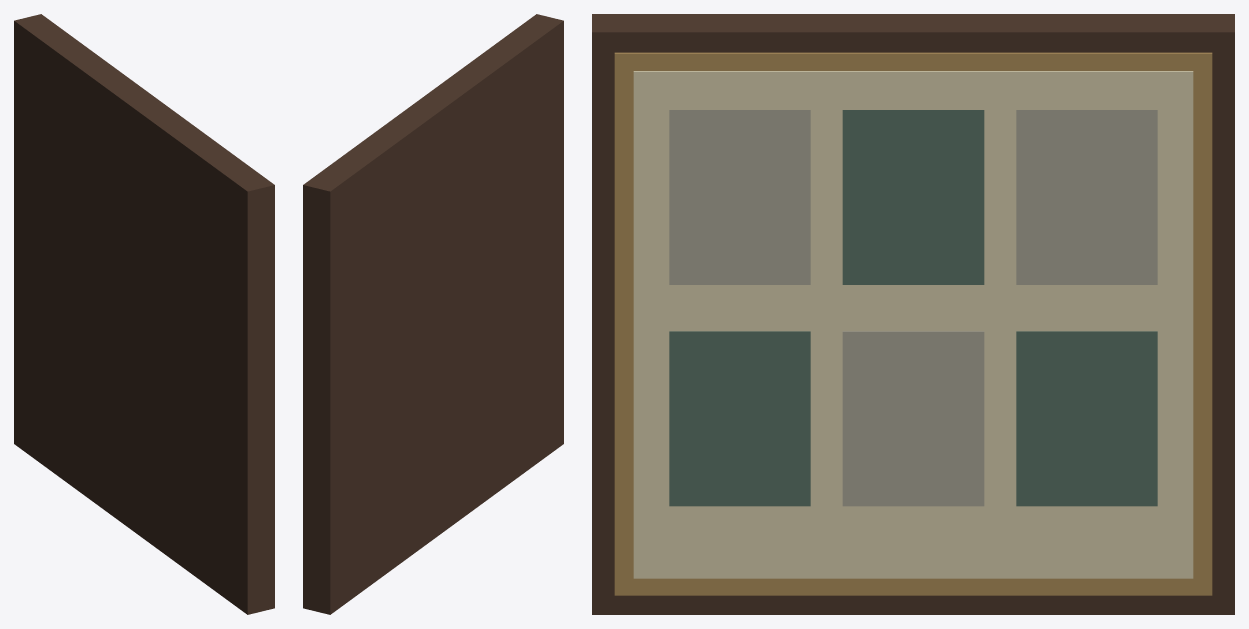
Rendered from LP_Exit_EvacuationMap.fbx.
3 views of the same model, side by side, from view 1: azimuth 30°, elevation 25°; view 2: azimuth 150°, elevation 25°; view 3: azimuth 270°, elevation 25° (orthographic). The views are drawn at different scales.
Visible parts, largest first — view 1: Walnut; view 2: Walnut; view 3: WarmIvory, SageUpholstery, M_Museum_DustCloth, Walnut, AgedBrass.
Boxes of the visible parts, x1,y1,x2,y2 form: Walnut: (14, 14, 274, 614); Walnut: (303, 14, 563, 614); WarmIvory: (633, 71, 1193, 578); SageUpholstery: (669, 110, 1157, 506); M_Museum_DustCloth: (669, 110, 1157, 506); Walnut: (592, 14, 1234, 614); AgedBrass: (614, 52, 1212, 595).
Size of the model in its own units: 6 by 80 by 80.
